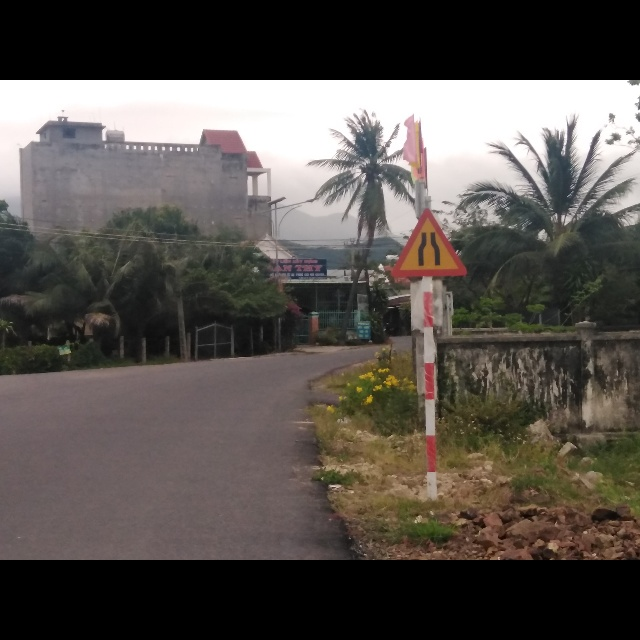Đường bị hẹp cả hai bên: (389, 207, 466, 279)
